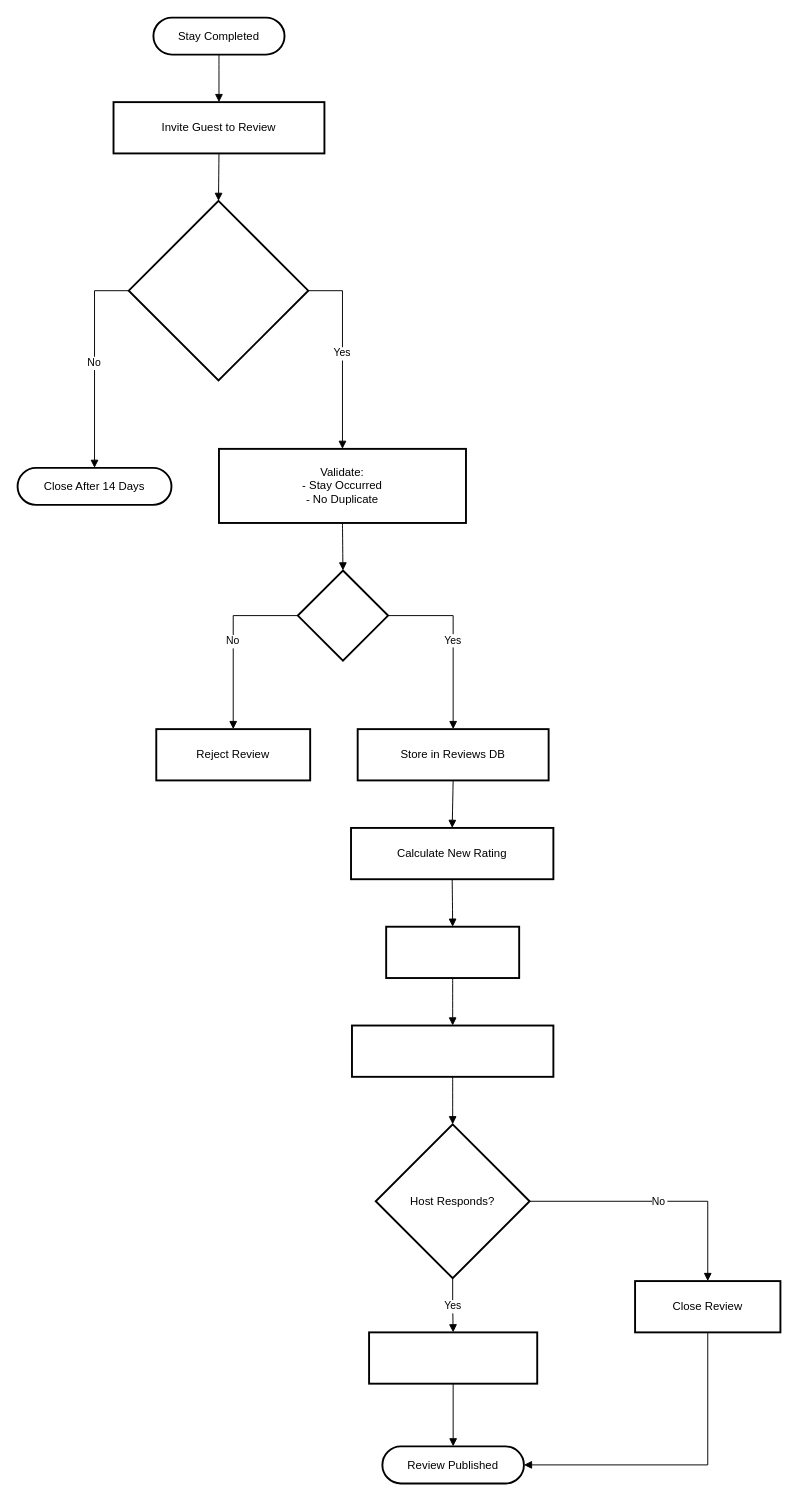
The diagram is 797 pixels wide and 1500 high, and some of its shapes have lost their labels. Each missing label, with the box of its shape:
Attach Response: (368, 1331, 538, 1384)
Host Response Period: (351, 1024, 554, 1077)
Notify Host: (385, 925, 520, 978)
Review Submitted?: (127, 200, 309, 381)
Valid?: (296, 569, 389, 661)
